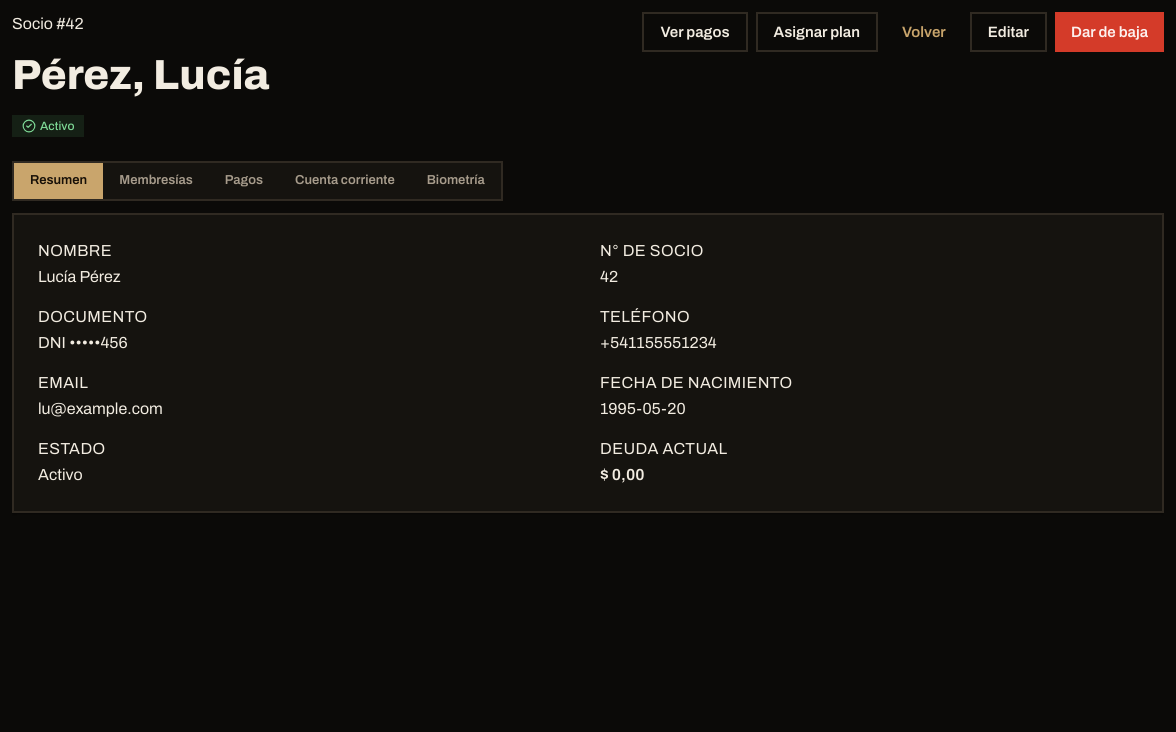
Test case: MemberDetailPage › empty en la cuenta corriente: sin entradas muestra el mensaje de "sin movimientos"
The image size is (1176, 732).
Expected: the heading "Pérez, Lucía" is shown, [12, 44, 269, 107]
Click the tab "Cuenta corriente" at [345, 181], box [279, 163, 411, 198]
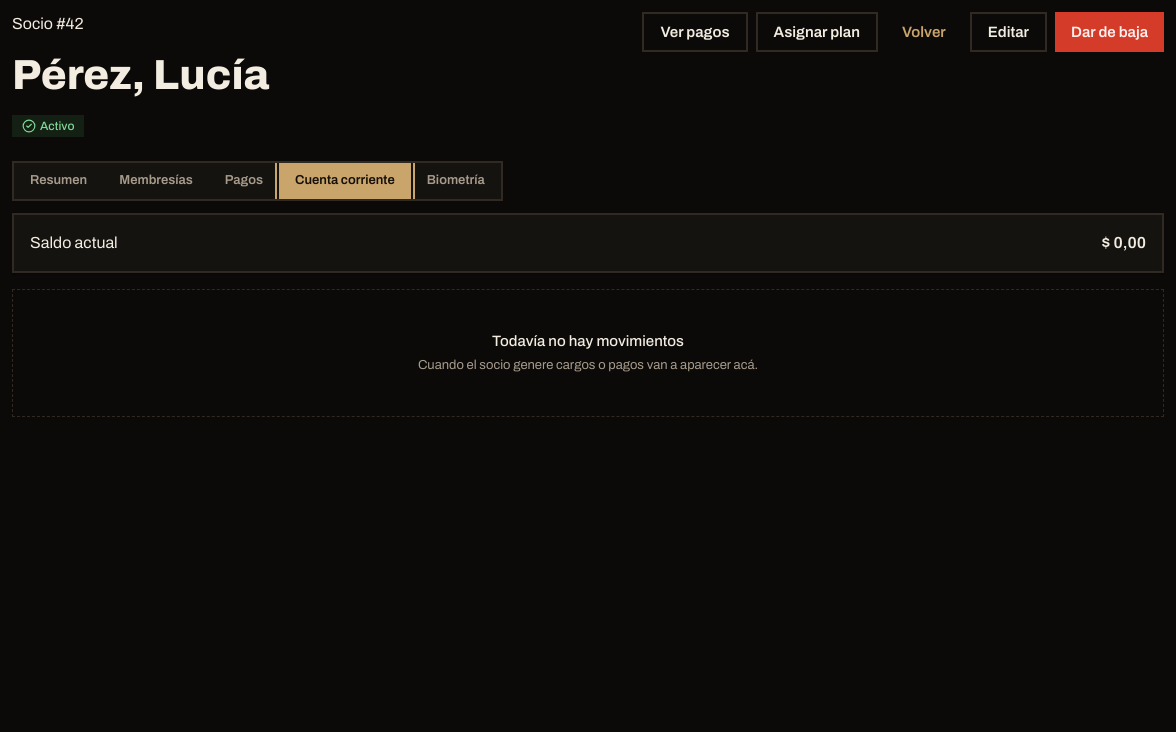
Result: the text "Todavía no hay movimientos" is shown at [492, 332, 684, 348]
